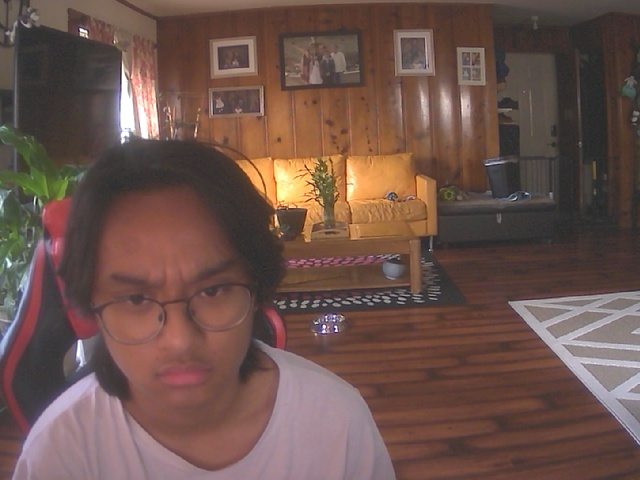anger: (73, 162, 277, 416)
